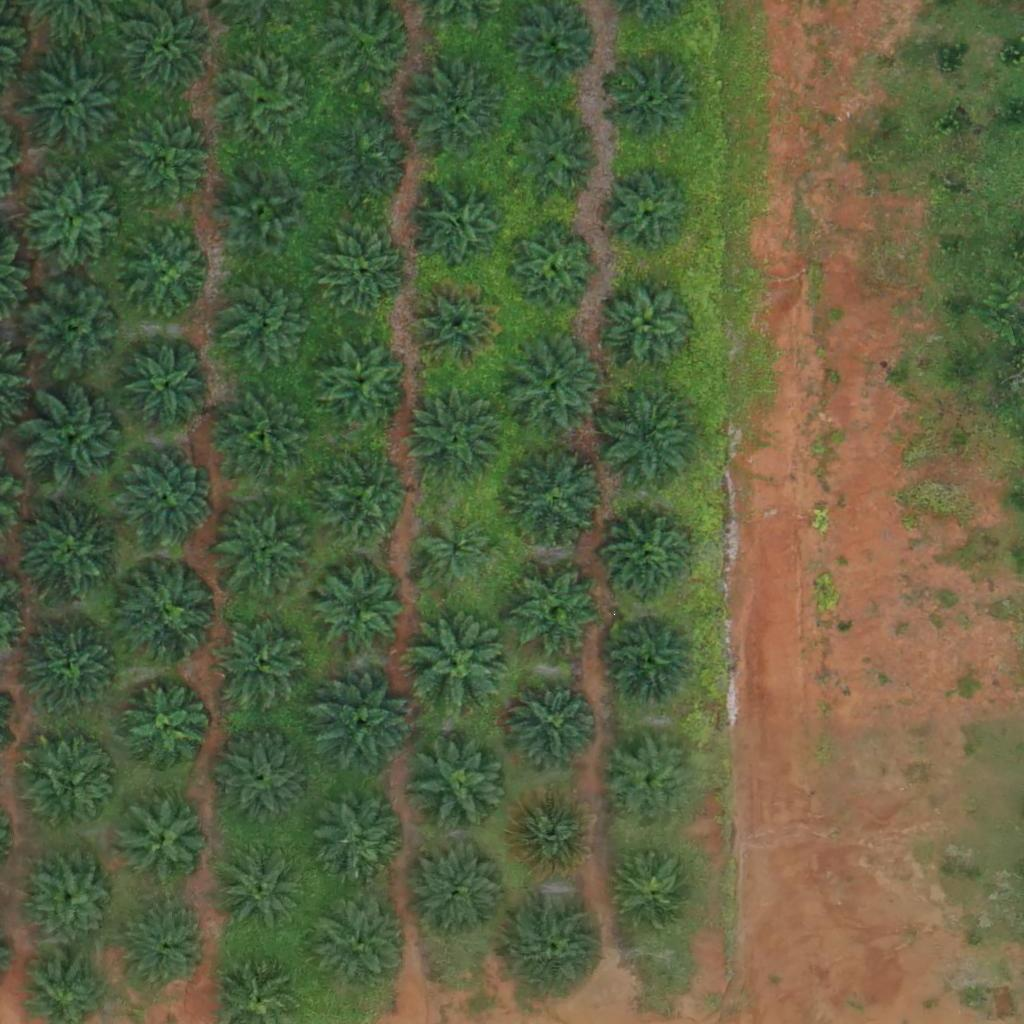Kelapa_Sawit: (18, 47, 131, 160), (117, 108, 217, 209), (408, 64, 508, 165), (412, 615, 512, 716), (312, 335, 412, 436), (313, 451, 413, 552), (311, 675, 411, 776), (218, 271, 318, 372), (215, 388, 315, 489), (214, 497, 314, 598), (213, 614, 313, 715), (211, 730, 311, 831), (114, 448, 214, 549), (119, 561, 219, 662), (24, 279, 124, 380), (22, 388, 122, 489), (20, 504, 120, 605), (22, 614, 122, 715), (308, 888, 408, 989), (410, 736, 510, 837), (408, 840, 508, 941), (507, 894, 607, 995), (319, 110, 419, 210), (597, 385, 697, 485), (502, 337, 602, 437), (504, 451, 604, 551), (407, 389, 507, 489), (24, 848, 124, 948), (218, 52, 306, 140), (221, 171, 309, 259), (610, 56, 698, 144), (606, 170, 694, 258), (607, 280, 695, 368), (514, 567, 602, 655), (508, 677, 596, 765), (321, 227, 409, 315), (121, 685, 209, 773), (121, 798, 209, 886), (123, 904, 211, 992), (219, 844, 307, 932), (508, 788, 596, 876), (613, 851, 701, 939), (30, 177, 117, 265), (125, 1, 212, 89), (512, 112, 599, 200), (417, 184, 504, 272), (607, 517, 694, 605), (608, 614, 695, 702), (607, 740, 694, 828), (509, 223, 596, 311), (413, 281, 500, 369), (316, 563, 403, 651), (121, 230, 208, 318), (124, 345, 211, 433), (27, 744, 114, 832), (323, 791, 410, 879), (419, 517, 494, 593)
